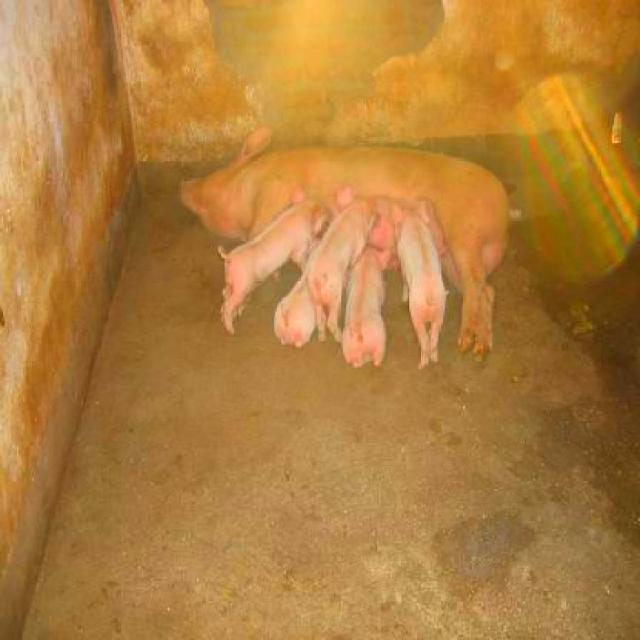Boar: (177, 126, 521, 368)
